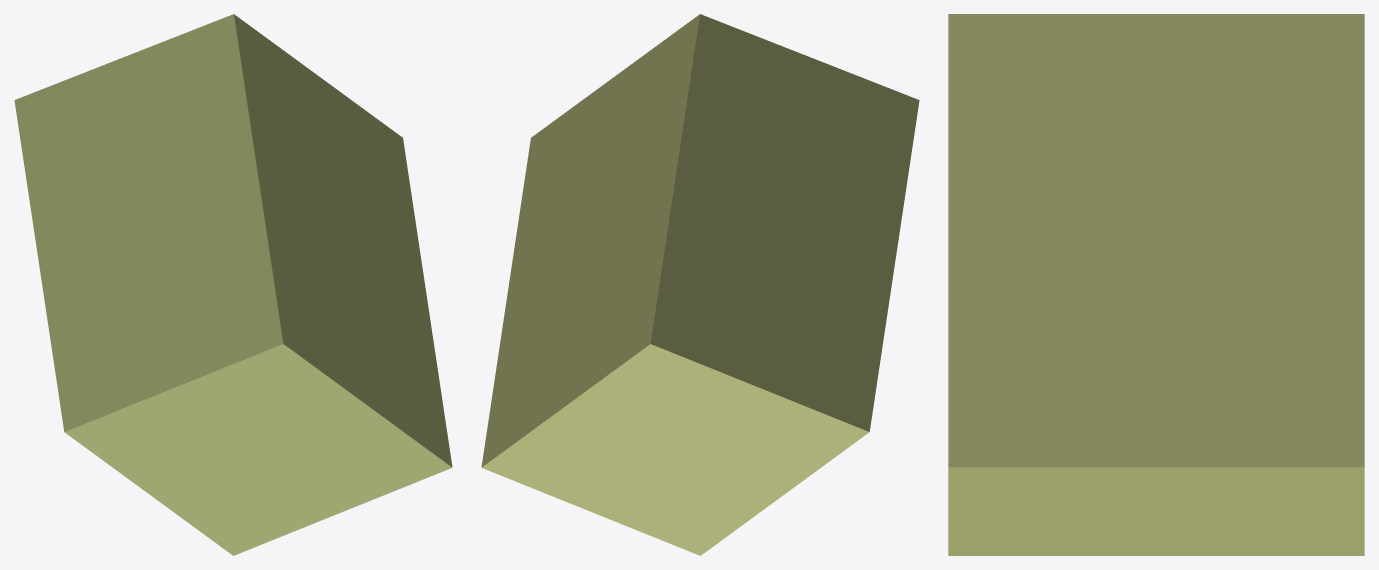
3 views of the same model, side by side, from view 1: azimuth 30°, elevation 25°; view 2: azimuth 150°, elevation 25°; view 3: azimuth 270°, elevation 25° (orthographic). The views are drawn at different scales.
Visible parts, largest first — view 1: 0_1_2_0_3_1_1_3_2_3_3; view 2: 0_1_2_0_3_1_1_3_2_3_3; view 3: 0_1_2_0_3_1_1_3_2_3_3.
Boxes of the visible parts, box(x1,y1,x2,y2) form: 0_1_2_0_3_1_1_3_2_3_3: box(14, 14, 452, 555); 0_1_2_0_3_1_1_3_2_3_3: box(481, 14, 919, 555); 0_1_2_0_3_1_1_3_2_3_3: box(948, 14, 1364, 555).
Size of the model in its own units: 5.51 by 7.37 by 6.
